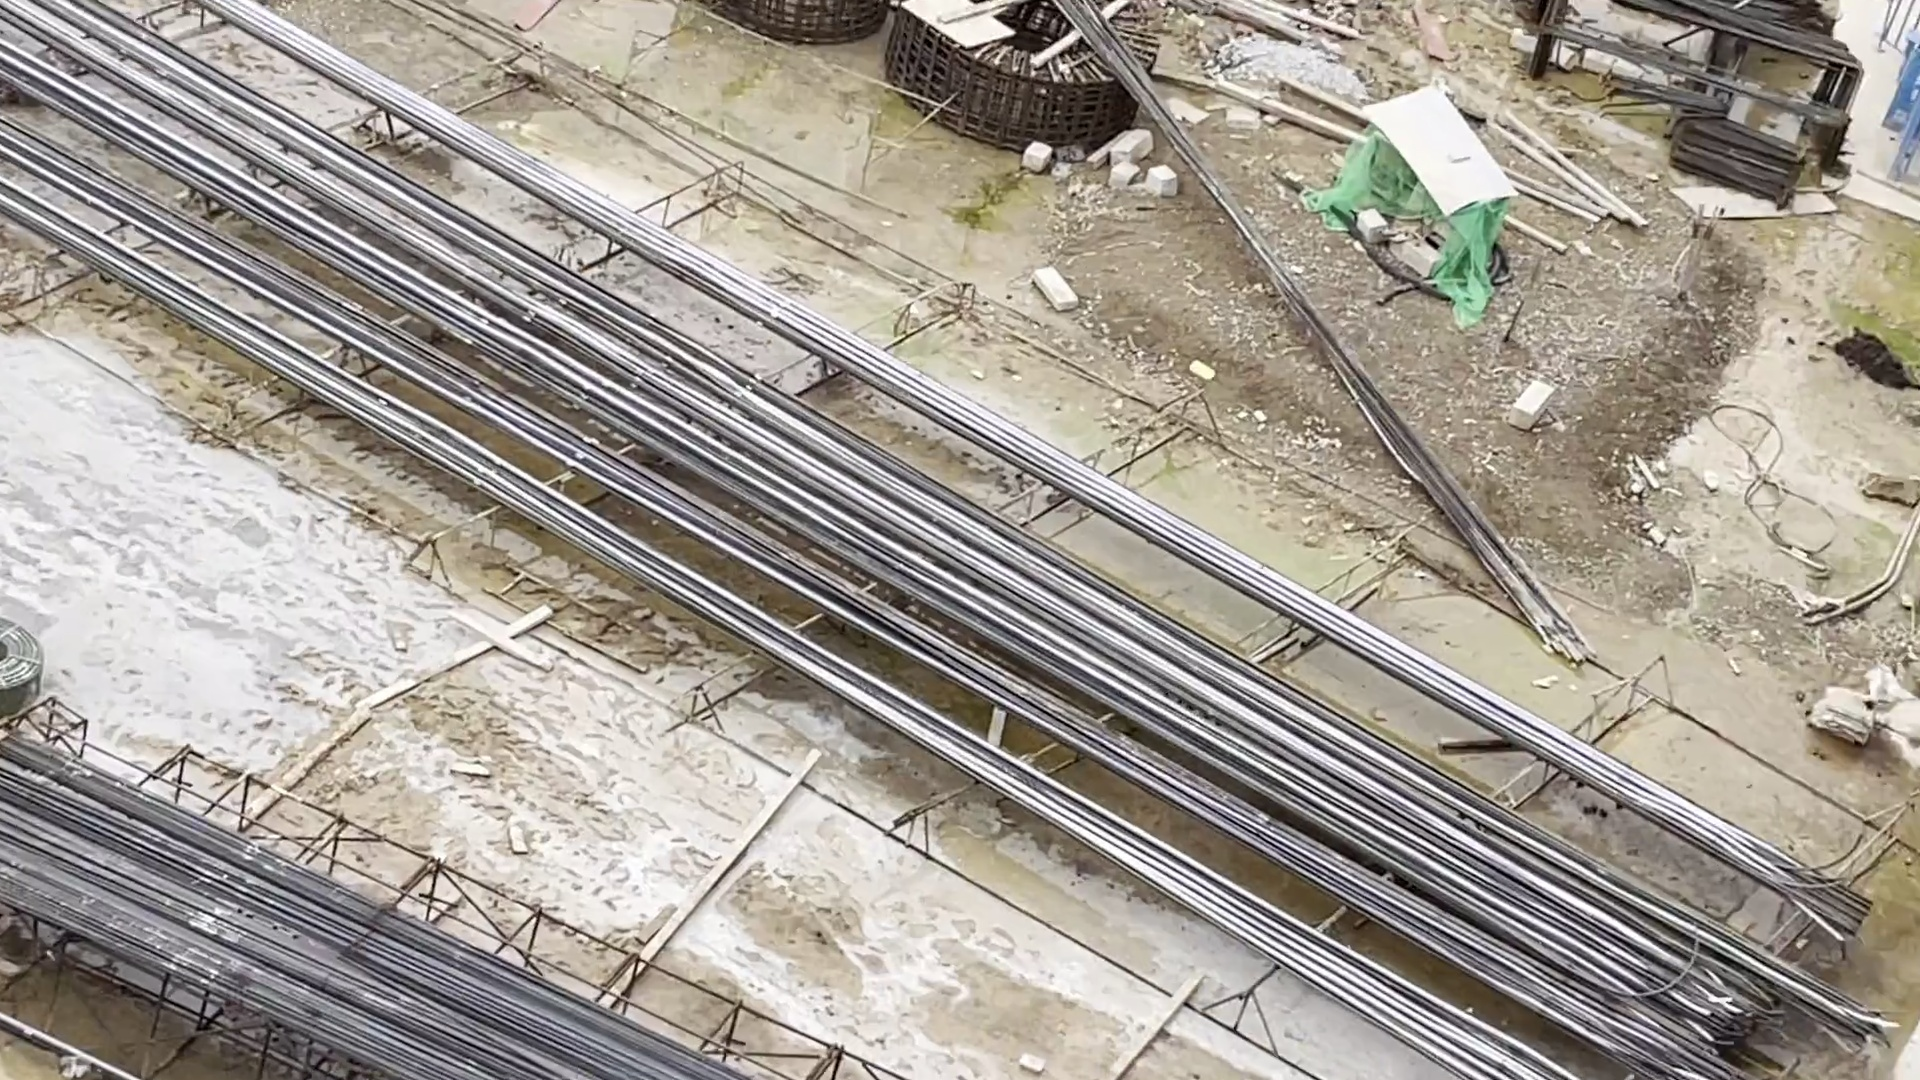rebar: (825, 429, 1791, 1065), (91, 40, 790, 591), (1, 724, 737, 1080)
